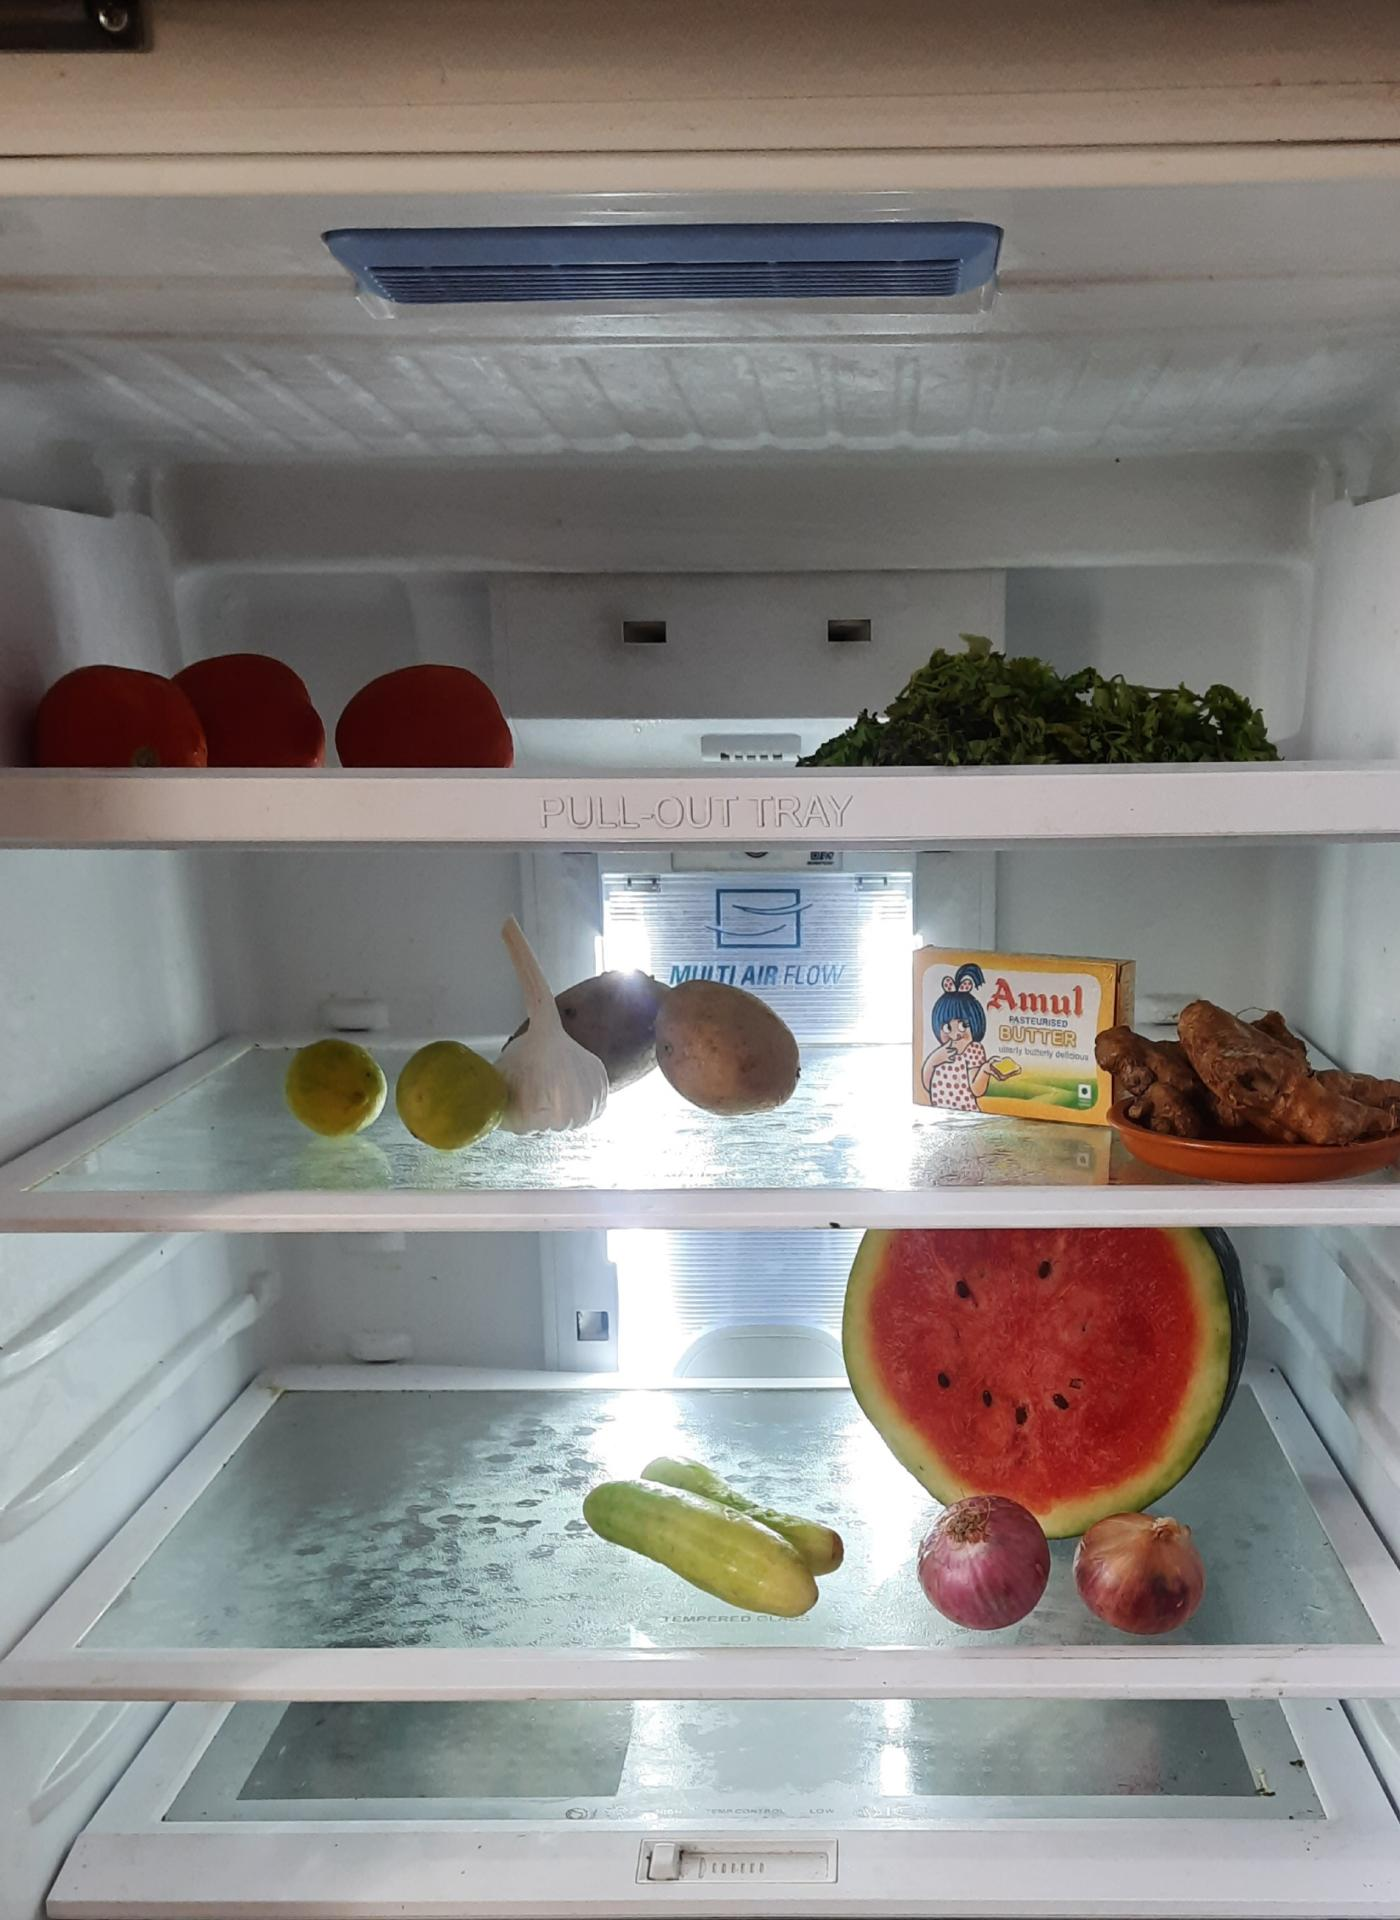butter: (915, 951, 1114, 1127)
coriander: (832, 659, 1275, 751)
cucumber: (580, 1449, 841, 1613)
garlic: (495, 909, 616, 1139)
ginger: (1108, 997, 1396, 1145)
lemon: (283, 1021, 508, 1142), (398, 1030, 519, 1148), (276, 1020, 397, 1136)
onion: (918, 1501, 1211, 1629)
potato: (652, 969, 799, 1111)
tomato: (34, 634, 520, 760)
watermelon: (838, 1236, 1239, 1540)
